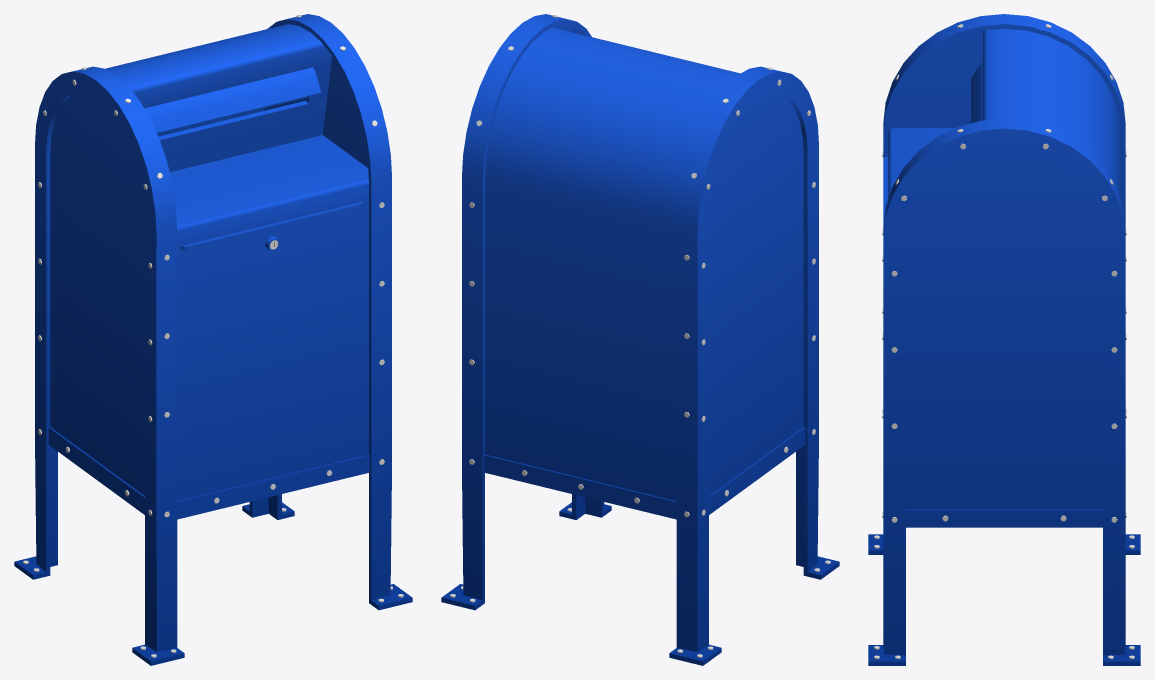
Rendered from drop_box_01.glb.
3 renders of one model, left to right at view 1: azimuth 30°, elevation 25°; view 2: azimuth 150°, elevation 25°; view 3: azimuth 270°, elevation 25°, orthographic.
Parts seen in each view (by area): view 1: drop_box_01; view 2: drop_box_01; view 3: drop_box_01.
Boxes of the visible parts, x1=… form: drop_box_01: x1=14, y1=14, x2=412, y2=665; drop_box_01: x1=441, y1=14, x2=839, y2=665; drop_box_01: x1=868, y1=14, x2=1140, y2=665.
Bounding box in the file's own units: 0.6065 × 1.18 × 0.548.
2 materials, 2 textured.
